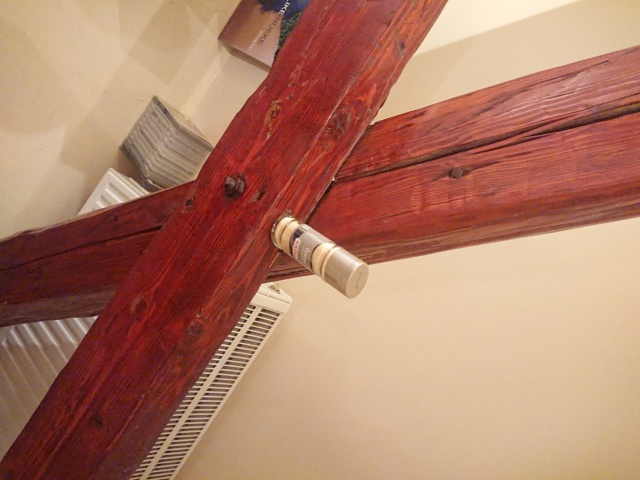Kotanyi Garlic Granules 70g: (268, 210, 372, 302)
